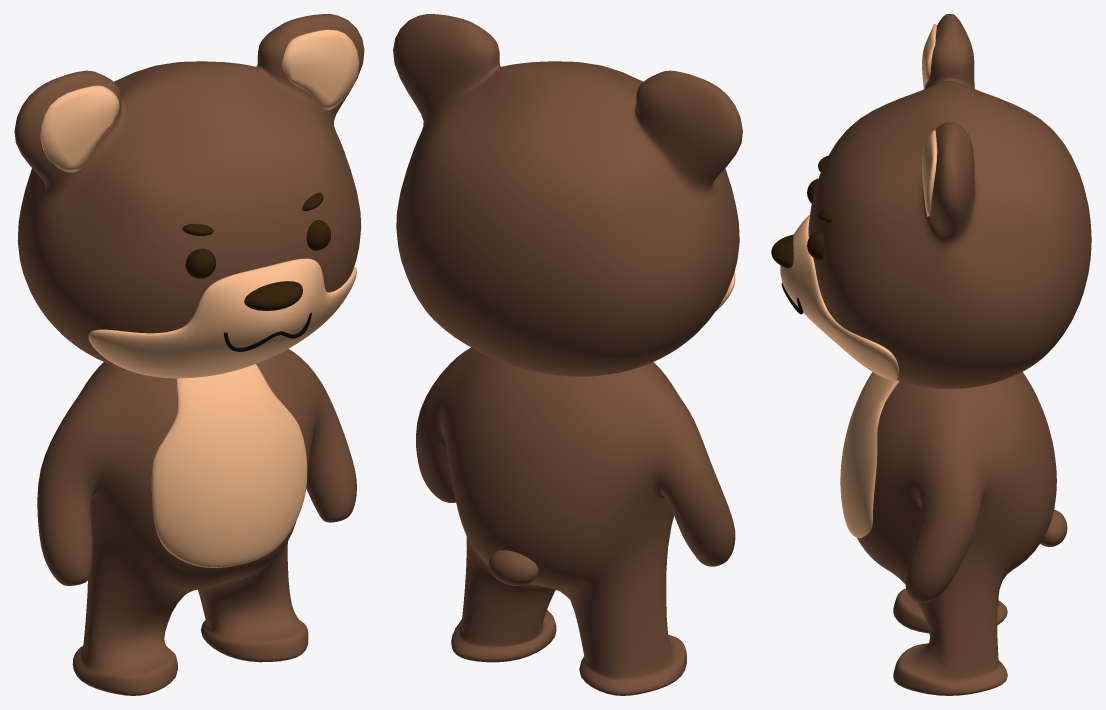
Rendered from Oso Base.fbx.
3 views of the same model, side by side, from view 1: azimuth 30°, elevation 25°; view 2: azimuth 150°, elevation 25°; view 3: azimuth 270°, elevation 25° (orthographic). The views are drawn at different scales.
Visible parts, largest first — view 1: Cube.001, Cube.002, Cube.005, Cube.003, Cube.004, Sphere, Sphere.001, Sphere.003; view 2: Cube.001, Cube.002, Sphere.002; view 3: Cube.001, Cube.002, Cube.005, Cube.003, Cube.004, Sphere.002, Sphere.001, Sphere.
Part boxes in pixels (bbox=[...]): Cube.001: bbox=[14, 14, 364, 370]; Cube.002: bbox=[37, 349, 356, 695]; Cube.005: bbox=[151, 364, 307, 567]; Cube.003: bbox=[88, 258, 356, 378]; Cube.004: bbox=[40, 29, 359, 172]; Sphere: bbox=[185, 220, 330, 278]; Sphere.001: bbox=[244, 281, 302, 310]; Sphere.003: bbox=[182, 192, 323, 235]; Cube.001: bbox=[393, 14, 742, 376]; Cube.002: bbox=[416, 347, 735, 695]; Sphere.002: bbox=[488, 550, 538, 585]; Cube.001: bbox=[808, 14, 1091, 388]; Cube.002: bbox=[857, 372, 1056, 695]; Cube.005: bbox=[840, 372, 899, 538]; Cube.003: bbox=[780, 215, 898, 380]; Cube.004: bbox=[922, 24, 937, 216]; Sphere.002: bbox=[1040, 509, 1067, 546]; Sphere.001: bbox=[771, 234, 793, 268]; Sphere: bbox=[807, 178, 824, 259].
Size of the model in its own units: 212 by 358 by 181.
